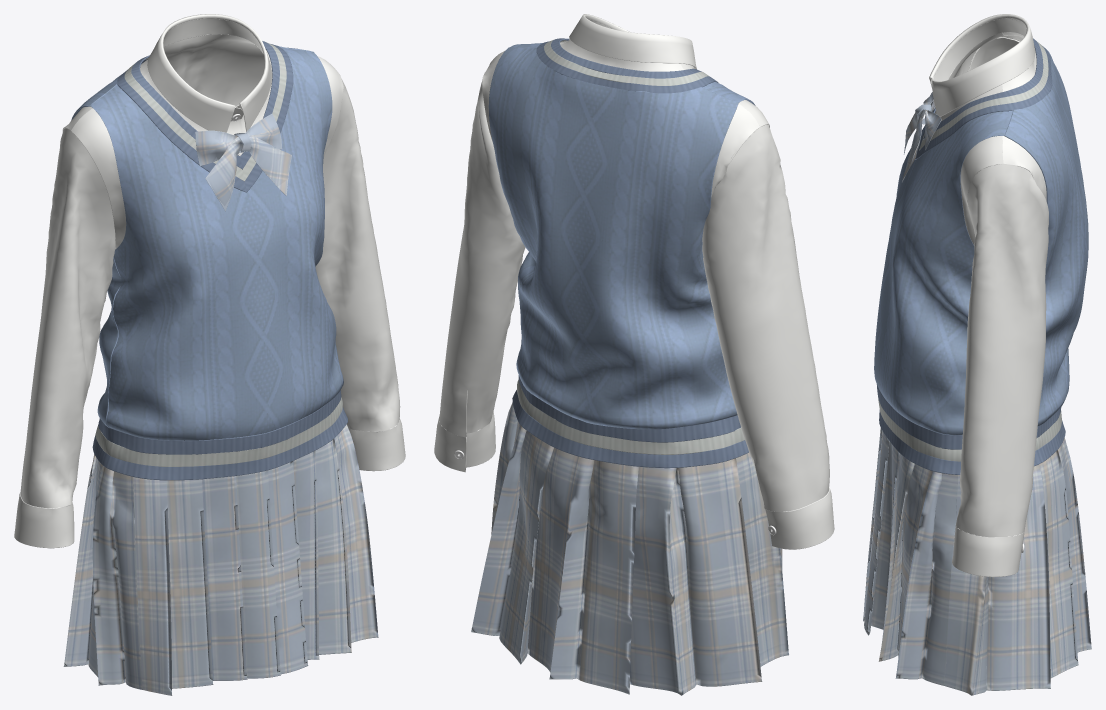
The model's file is jk_school_uniform_4.glb.
3 renders of one model, left to right at view 1: azimuth 30°, elevation 25°; view 2: azimuth 150°, elevation 25°; view 3: azimuth 270°, elevation 25°, orthographic. The views are drawn at different scales.
Parts seen in each view (by area): view 1: Object_10, Object_3, Object_4, Object_5, Object_9, Object_2, Object_7, Object_6, Object_11, Object_8; view 2: Object_8, Object_9, Object_5, Object_4, Object_10, Object_2, Object_7; view 3: Object_4, Object_10, Object_9, Object_3, Object_8, Object_2, Object_5, Object_6, Object_7, Object_11.
Boxes of the visible parts, <box> form: Object_10: <box>90,47,347,480</box>; Object_3: <box>133,424,378,695</box>; Object_4: <box>14,42,405,548</box>; Object_5: <box>20,18,279,508</box>; Object_9: <box>63,454,142,689</box>; Object_2: <box>117,14,293,192</box>; Object_7: <box>62,34,326,132</box>; Object_6: <box>195,50,343,165</box>; Object_11: <box>71,71,207,249</box>; Object_8: <box>71,46,313,427</box>; Object_8: <box>488,47,738,429</box>; Object_9: <box>471,402,788,695</box>; Object_5: <box>551,19,829,511</box>; Object_4: <box>434,39,834,549</box>; Object_10: <box>510,43,755,468</box>; Object_2: <box>536,14,718,93</box>; Object_7: <box>482,39,759,241</box>; Object_4: <box>902,40,1048,576</box>; Object_10: <box>874,107,1065,474</box>; Object_9: <box>944,437,1091,695</box>; Object_3: <box>863,428,958,685</box>; Object_8: <box>1004,50,1088,425</box>; Object_2: <box>915,14,1052,159</box>; Object_5: <box>923,18,1043,139</box>; Object_6: <box>915,84,1003,245</box>; Object_7: <box>1002,31,1046,200</box>; Object_11: <box>935,32,1003,113</box>.
Bounding box in the file's own units: 530 × 823 × 280.
Materials: 2 (1 with a texture image).
